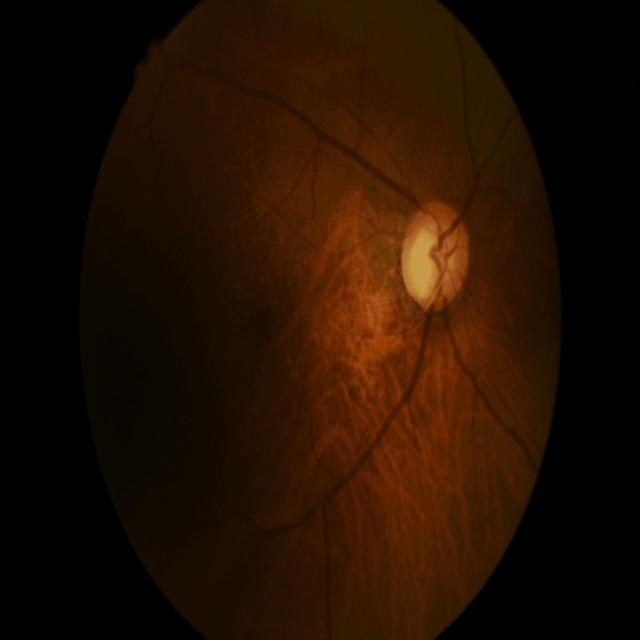cup: (411, 217, 454, 298)
disk: (400, 198, 470, 308)
